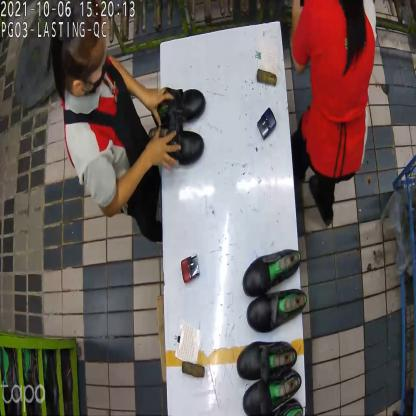shoes: (241, 247, 309, 332), (232, 338, 302, 416), (148, 85, 209, 161)
stamp: (258, 106, 276, 140), (182, 252, 200, 284)
